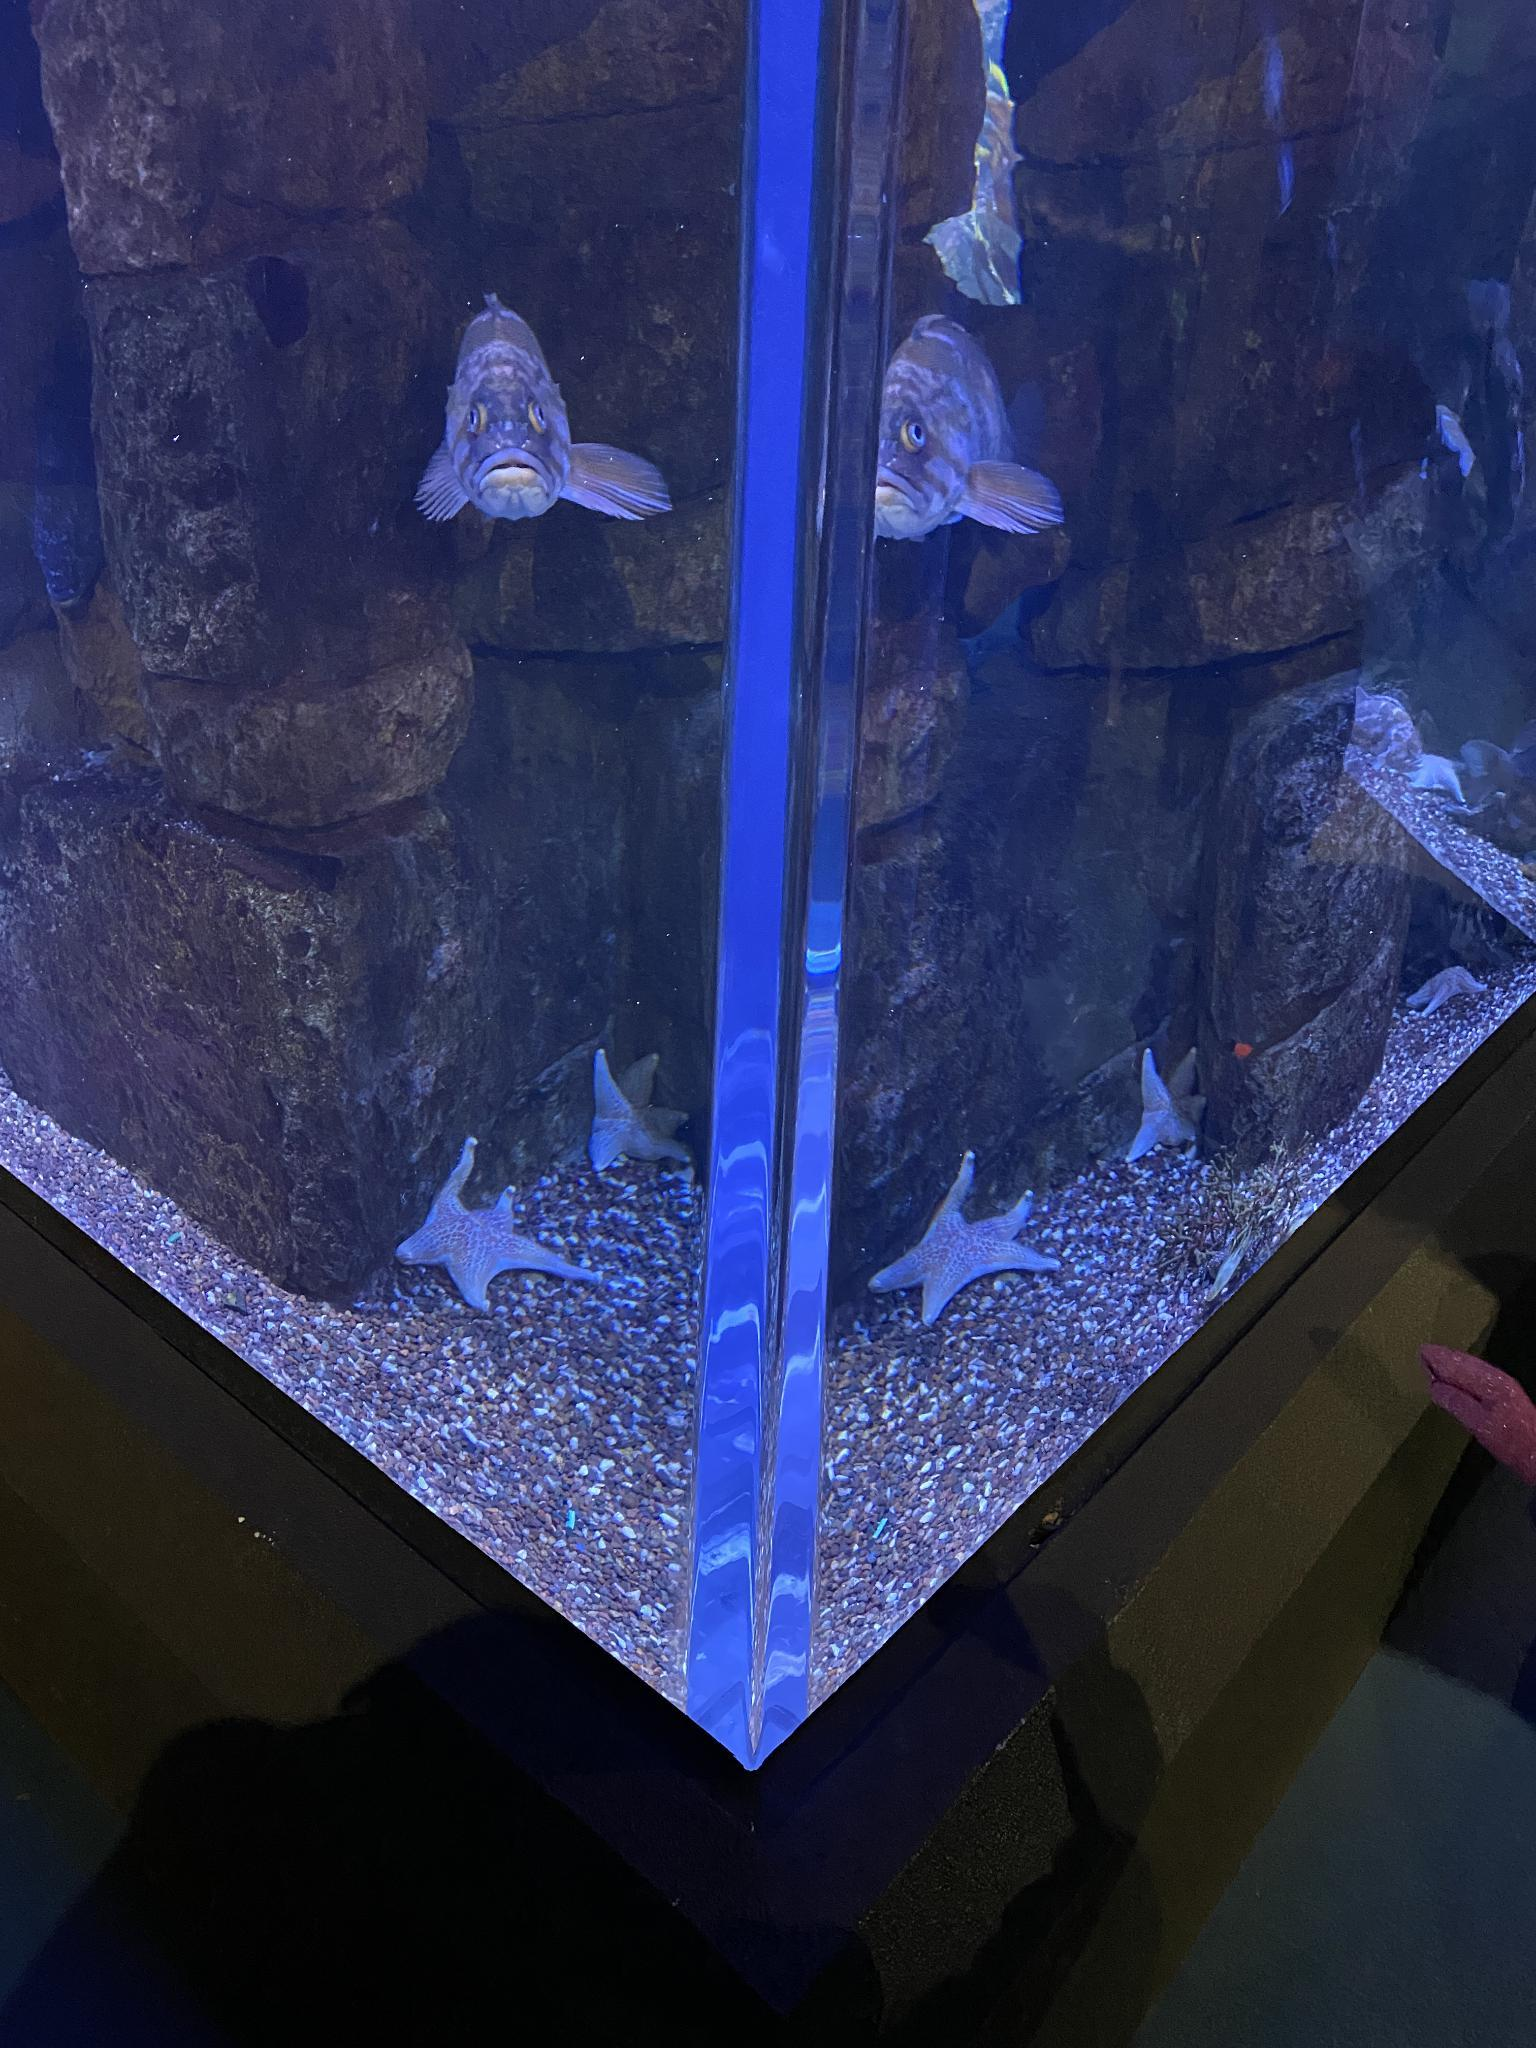fish: (868, 327, 1066, 555), (432, 326, 611, 535)
starfish: (887, 1156, 1057, 1321), (387, 1171, 579, 1316), (586, 1058, 699, 1182), (1133, 1051, 1218, 1169)
